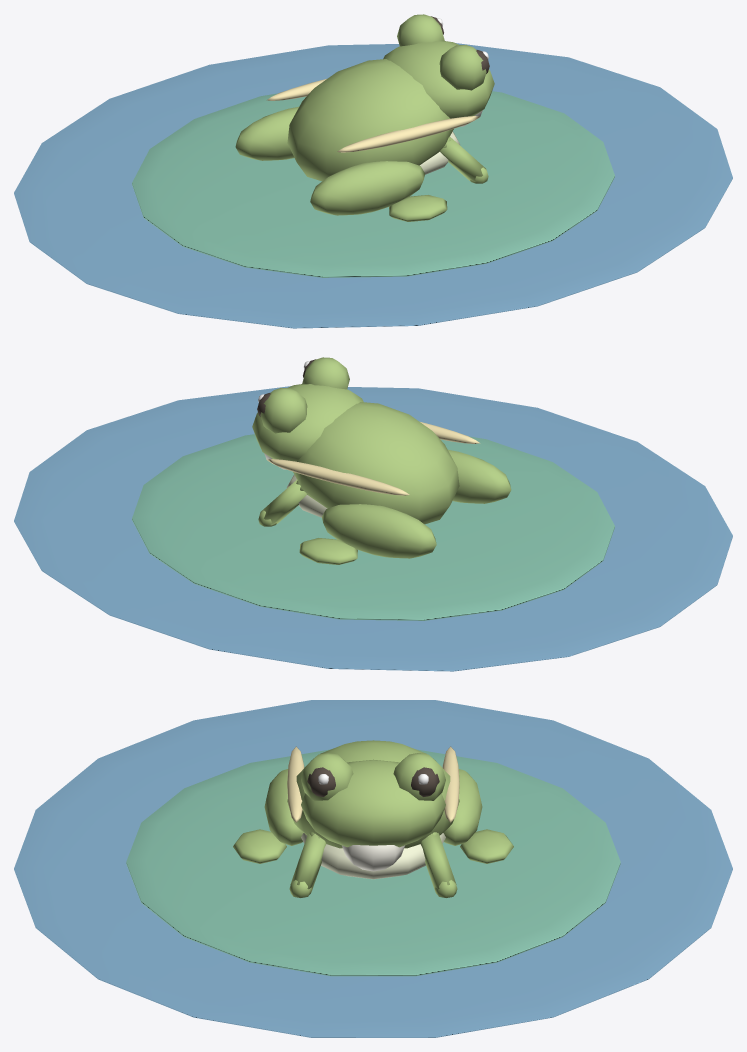
File: taipei-frog.glb
The picture shows the model from 3 angles, top to bottom: view 1: azimuth 30°, elevation 25°; view 2: azimuth 150°, elevation 25°; view 3: azimuth 270°, elevation 25°; orthographic projection. The views are drawn at different scales.
Parts seen in each view (by area): view 1: e, e.002, e.006; view 2: e, e.002, e.006; view 3: e, e.002, e.006, e.013.
Boxes of the visible parts, x1,y1,x2,y2 form: e: [14, 43, 732, 328]; e.002: [235, 59, 488, 221]; e.006: [383, 14, 494, 118]; e: [14, 386, 732, 671]; e.002: [258, 402, 511, 564]; e.006: [252, 357, 363, 461]; e: [14, 700, 732, 1037]; e.002: [233, 740, 513, 897]; e.006: [301, 753, 445, 847]; e.013: [342, 845, 404, 871].
Bounding box in the file's own units: 1.75 × 0.375 × 1.58.
